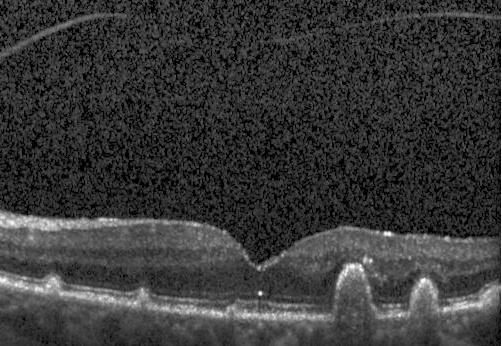retinal_drusen: (335, 270, 370, 323), (412, 283, 435, 318), (484, 289, 499, 309), (47, 280, 59, 297), (226, 308, 234, 318), (139, 299, 146, 307)
vitreous_detachment: (260, 11, 500, 42), (1, 13, 127, 57)
